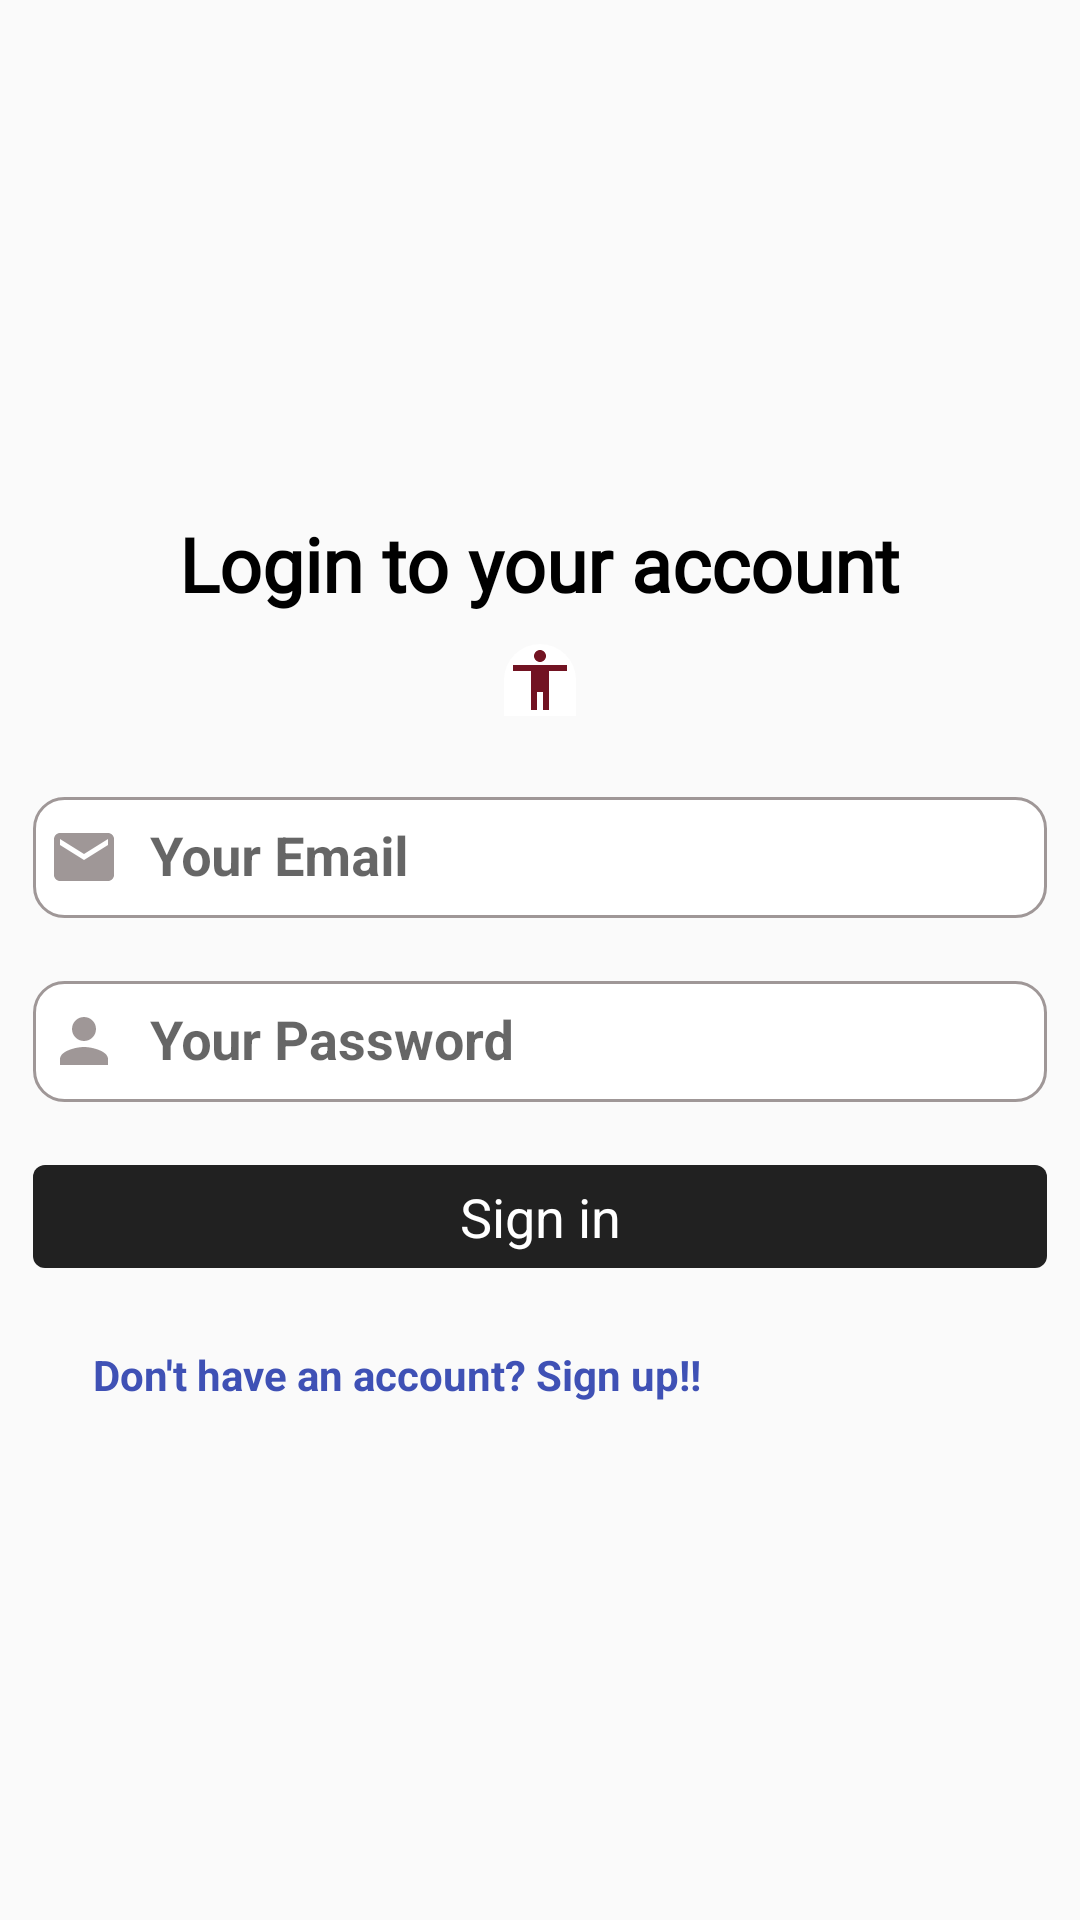

Where to tap for icons on this 1080 x 1920 app screen, as (x,y):
accessibility: (540,680)
